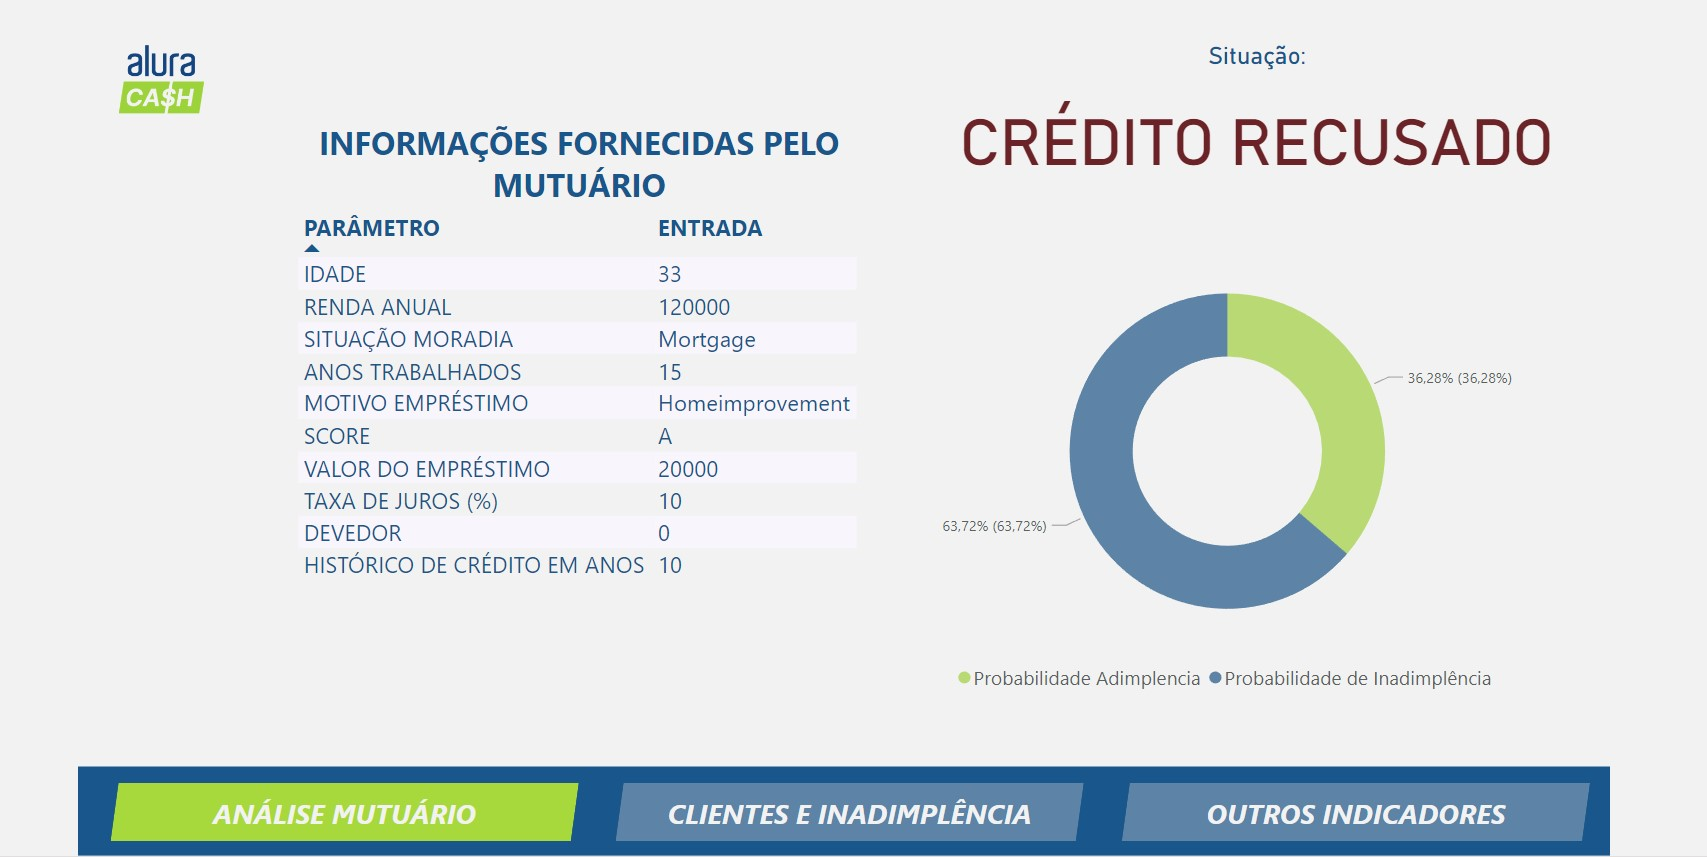

Layout of this report page (visuals, bound fields, positions):
{"tool":"powerbi","page":{"name":"Análise Mutuário","canvas":[1280,720],"ordinal":1},"visuals":[{"type":"shape","box":[0,645.4,1279.9,74.6],"z":0},{"type":"image","box":[0,0,139.4,141.8],"z":1000},{"type":"card","title":"Situação:","fields":{"Values":["Min(fDadoNovoCliente.Inadimplente_S_N)"]},"box":[707.3,39.2,555.6,130.9],"z":2000},{"type":"donutChart","fields":{"Y":["Sum(v1=30&v2=40000&v3=Rent&v4=2&v5=Personal&v6=C&v7=5000&v8=1&v9=0&v10=10.Probabilidade negativa)","Sum(v1=30&v2=40000&v3=Rent&v4=2&v5=Personal&v6=C&v7=5000&v8=1&v9=0&v10=10.Probabilidade Positiva)"]},"box":[640,204.4,640,386.7],"z":3000},{"type":"tableEx","title":"INFORMAÇÕES FORNECIDAS PELO MUTUÁRIO","fields":{"Values":["fDadoMutuario.PERGUNTAS","fDadoMutuario.RESPOSTAS"]},"box":[177.4,105.2,482.1,428.3],"z":5000},{"type":"actionButton","title":"índice","box":[26.9,658.9,391.2,48.9],"z":6000},{"type":"actionButton","title":"índice","box":[449.2,658.9,391.2,48.9],"z":7000},{"type":"actionButton","title":"índice","box":[871.6,658.9,391.2,48.9],"z":8000}]}

Visuals, with their boxes on the page's 1280x720 design canvas (x1, y1, x2, y2). These are canvas units, not pixel positions in the 1707x857 screenshot, which may show the page scaled, cropped or inside an application window:
shape: 0 645 1280 720
image: 0 0 139 142
"Situação:" card: 707 39 1263 170
donutChart - Sum(v1=30&v2=40000&v3=Rent&v4=2&v5=Personal&v6=C&v7=5000&v8=1&v9=0&v10=10.Probabilidade negativa) x Sum(v1=30&v2=40000&v3=Rent&v4=2&v5=Personal&v6=C&v7=5000&v8=1&v9=0&v10=10.Probabilidade Positiva): 640 204 1280 591
"INFORMAÇÕES FORNECIDAS PELO MUTUÁRIO" tableEx: 177 105 660 534
"índice" actionButton: 27 659 418 708
"índice" actionButton: 449 659 840 708
"índice" actionButton: 872 659 1263 708
